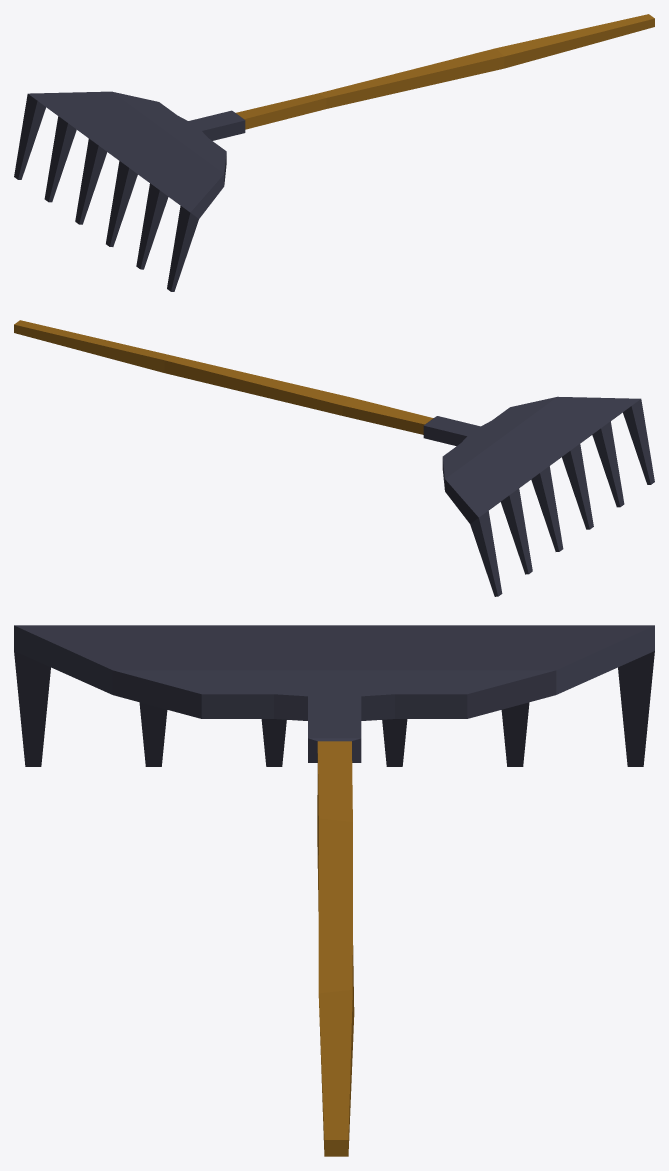
File: M_Rake.FBX
3 renders of one model, top to bottom at view 1: azimuth 30°, elevation 25°; view 2: azimuth 150°, elevation 25°; view 3: azimuth 270°, elevation 25°, orthographic. The views are drawn at different scales.
Visible parts, largest first — view 1: Box007; view 2: Box007; view 3: Box007.
Part boxes in pixels (left/top/right/bottom): Box007: left=14, top=14, right=654, bottom=291; Box007: left=14, top=320, right=654, bottom=596; Box007: left=14, top=625, right=654, bottom=1156.
Bounding box in the file's own units: 186 × 26.72 × 93.62.
